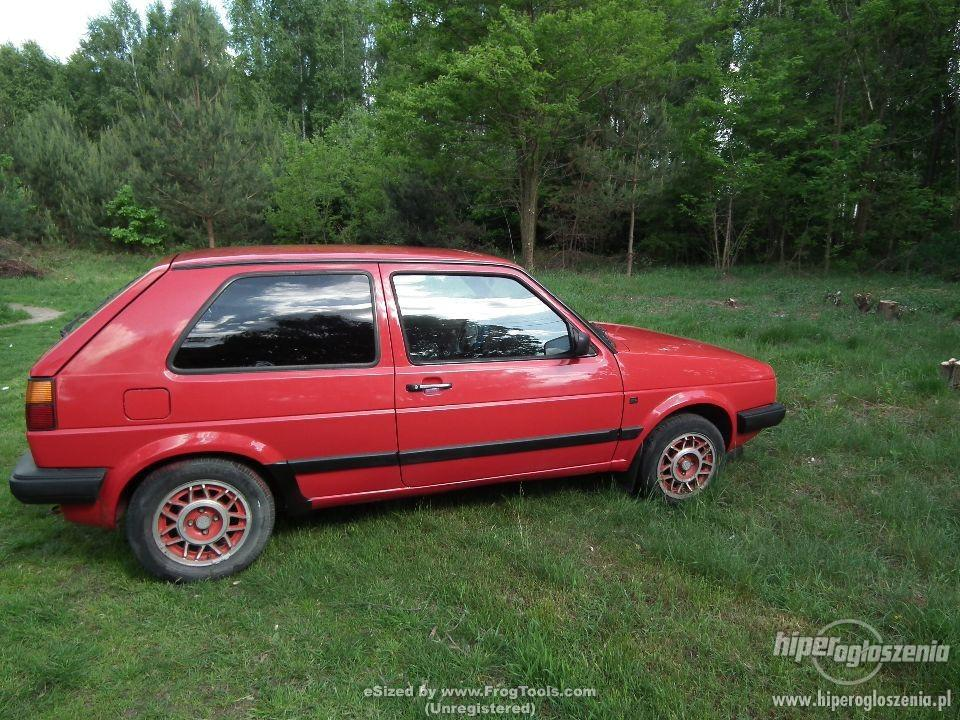Hatchback: (8, 242, 786, 583)
